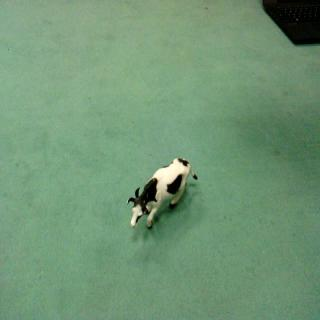cow: (124, 154, 200, 232)
